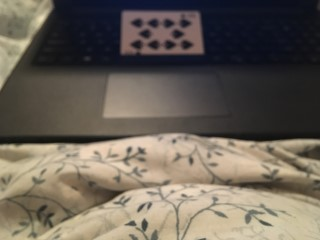TenOfSpades: (120, 10, 203, 53)
